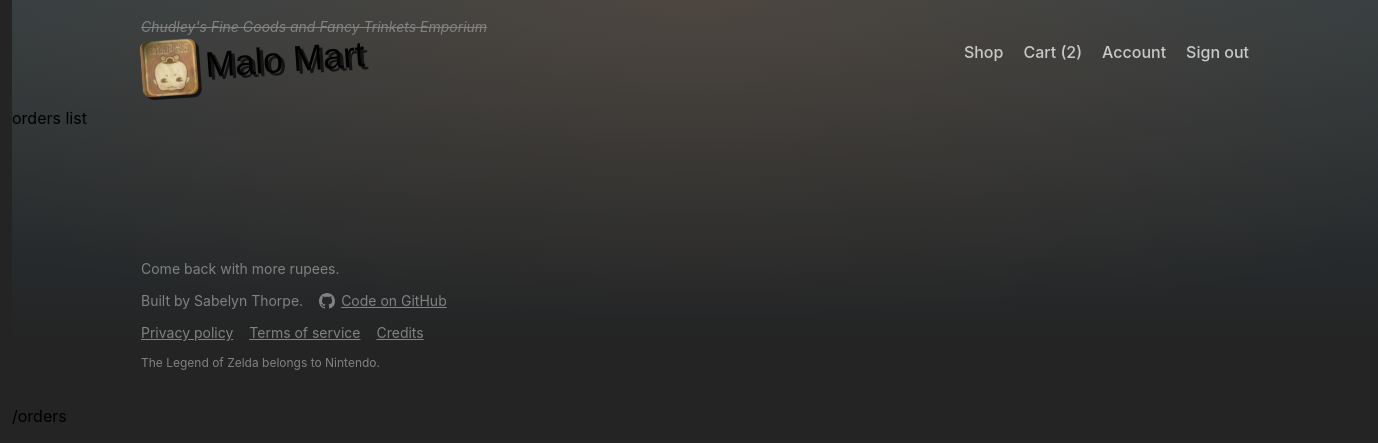
Test: sign out › lands on the home page even when it has to load first
Click the button "Sign out": [1218, 53] box [1186, 40, 1249, 65]
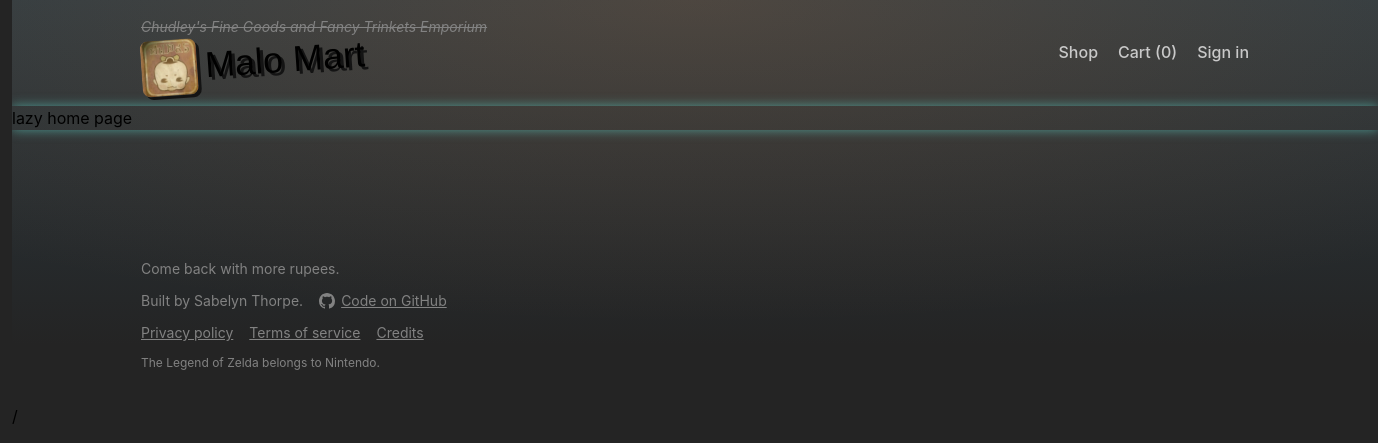
expect the text with test id "location" reads "/": met, box [12, 406, 18, 426]
expect the text "lazy home page" is shown: met, box [12, 108, 132, 128]
